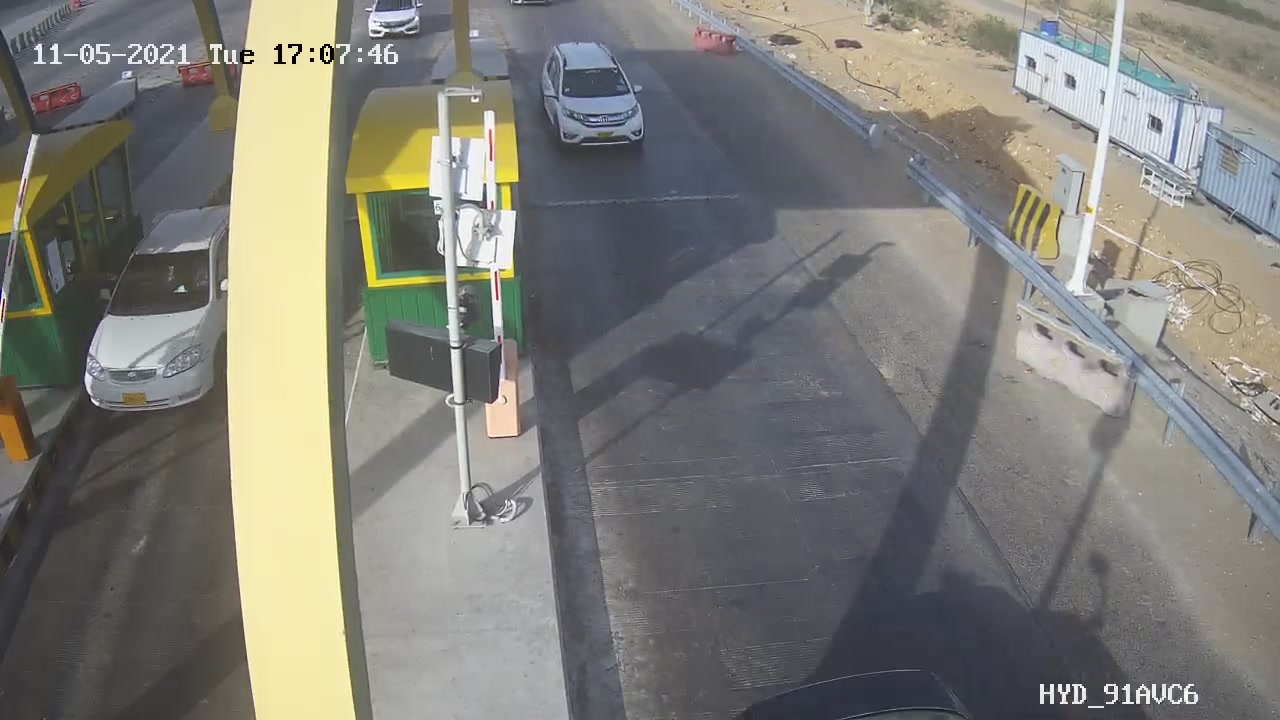F1: (524, 30, 664, 165)
